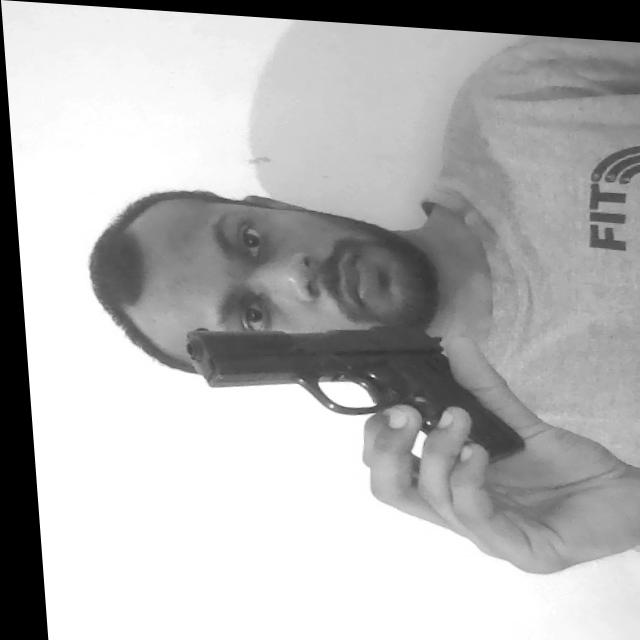handgun: (173, 304, 521, 457)
